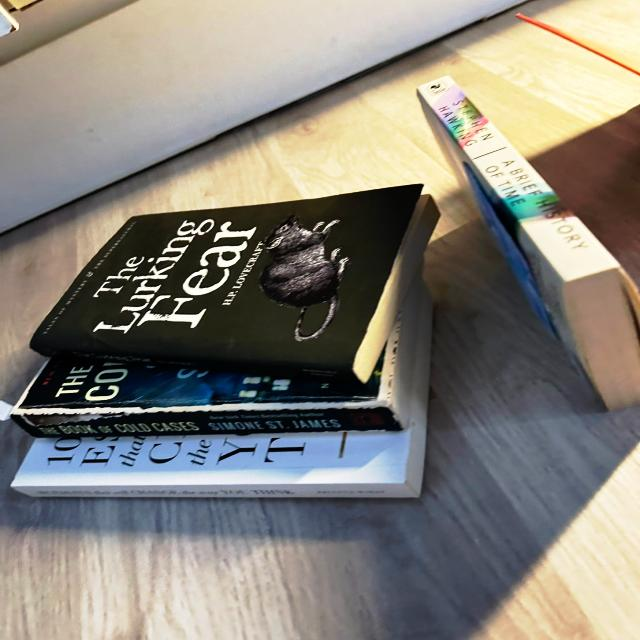Book: (14, 284, 436, 497), (31, 185, 440, 383), (416, 76, 639, 410), (11, 281, 424, 438)
